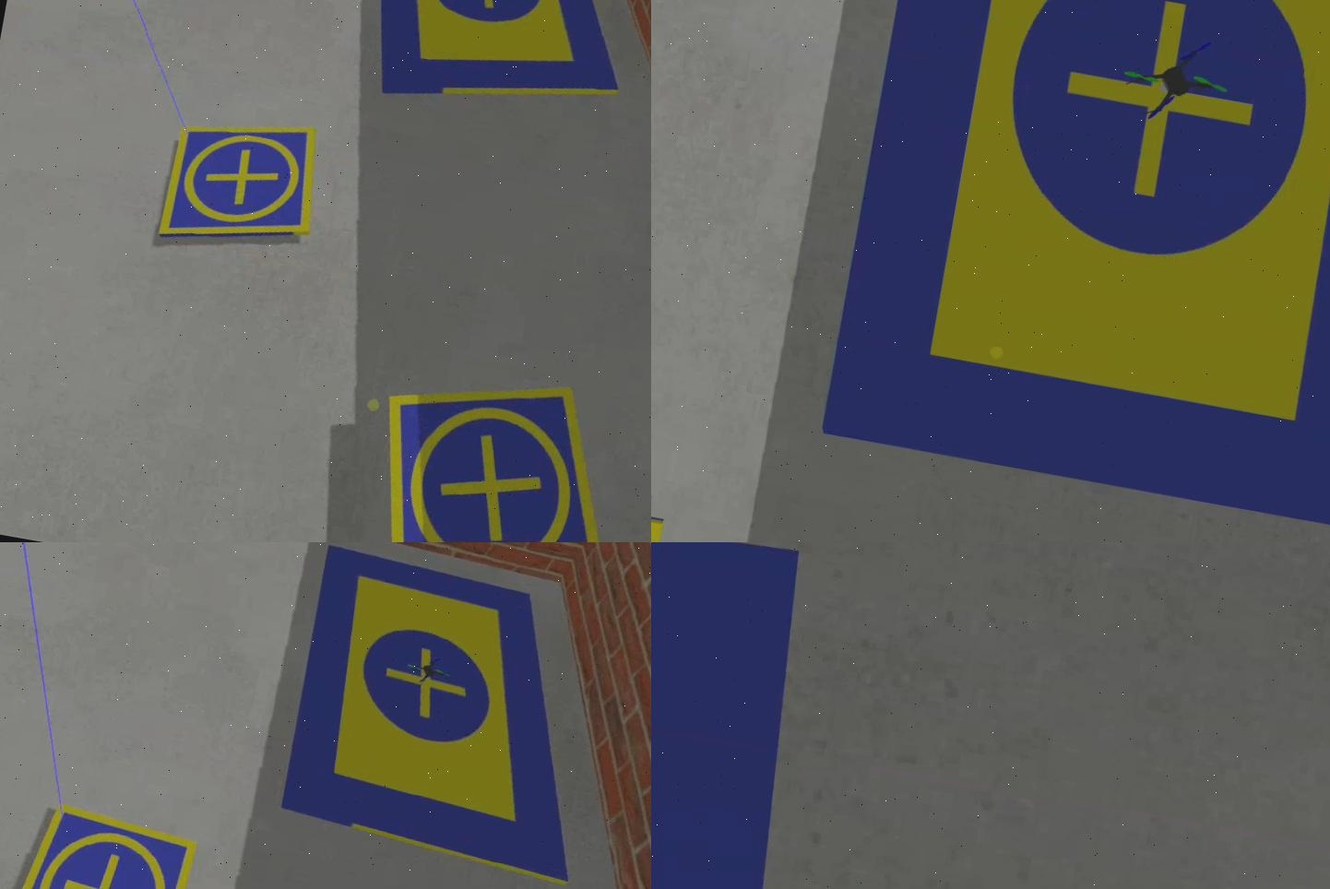large_base: (816, 1, 1330, 530), (274, 542, 623, 887), (652, 542, 856, 889), (344, 1, 645, 135)
small_base: (353, 360, 642, 542), (148, 105, 326, 262), (1, 800, 200, 889)
